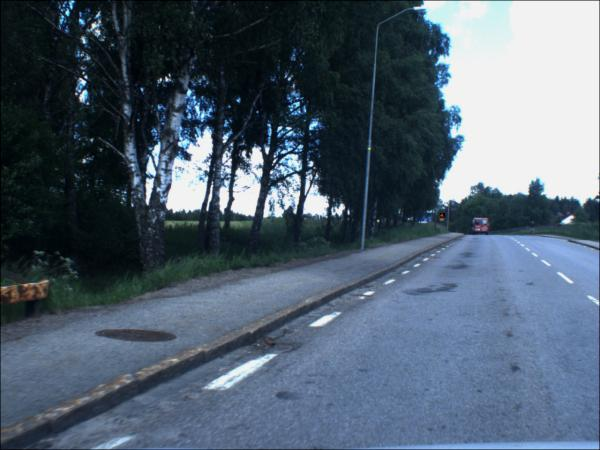WARNING: (440, 215, 446, 221)
